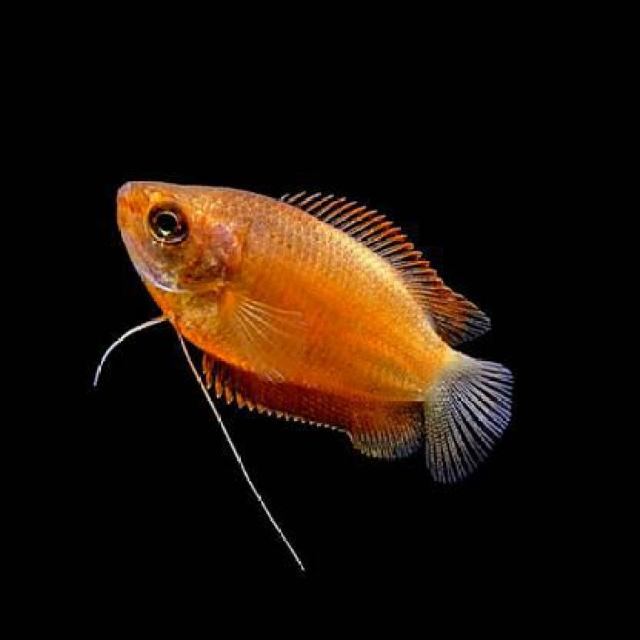Gourami: (114, 173, 520, 476)
